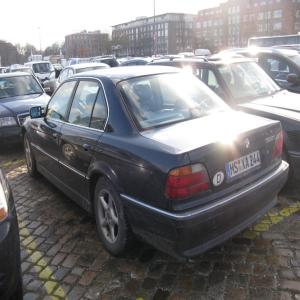Vehicle-registration-plate: (225, 151, 262, 182)
